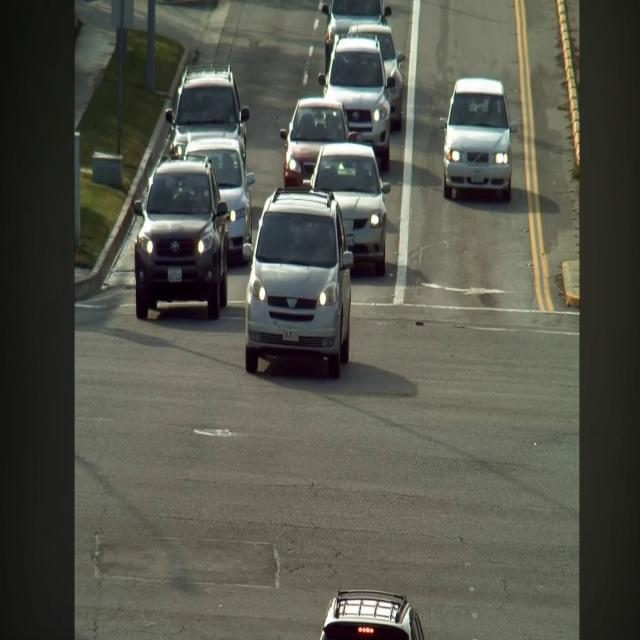car: (243, 188, 353, 378), (133, 155, 228, 319), (308, 144, 390, 276), (318, 36, 395, 172), (440, 78, 517, 201), (186, 137, 255, 262), (165, 64, 249, 163), (280, 96, 357, 187), (348, 23, 405, 130), (320, 591, 425, 639), (321, 0, 391, 71)
